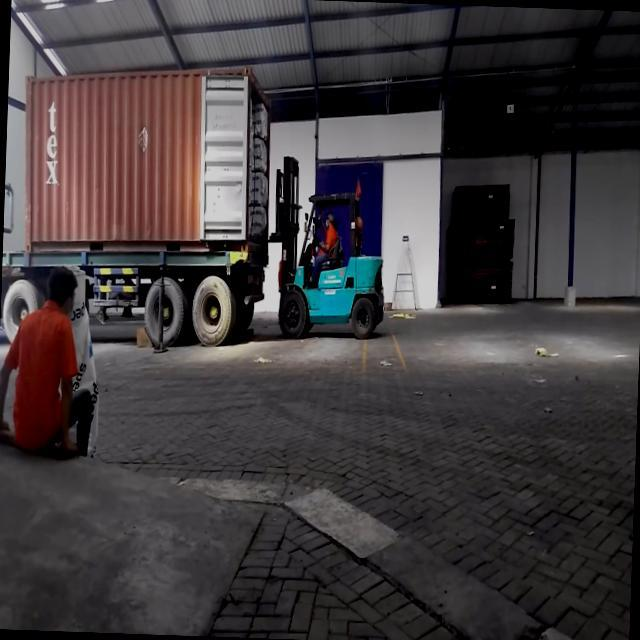driver: (306, 212, 341, 290)
forklift: (268, 151, 390, 343)
person: (0, 263, 100, 461)
